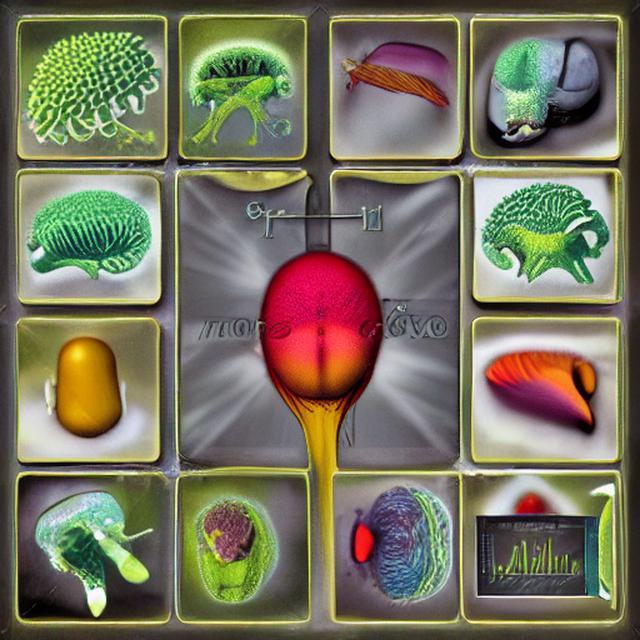Graph: (481, 522, 584, 596)
